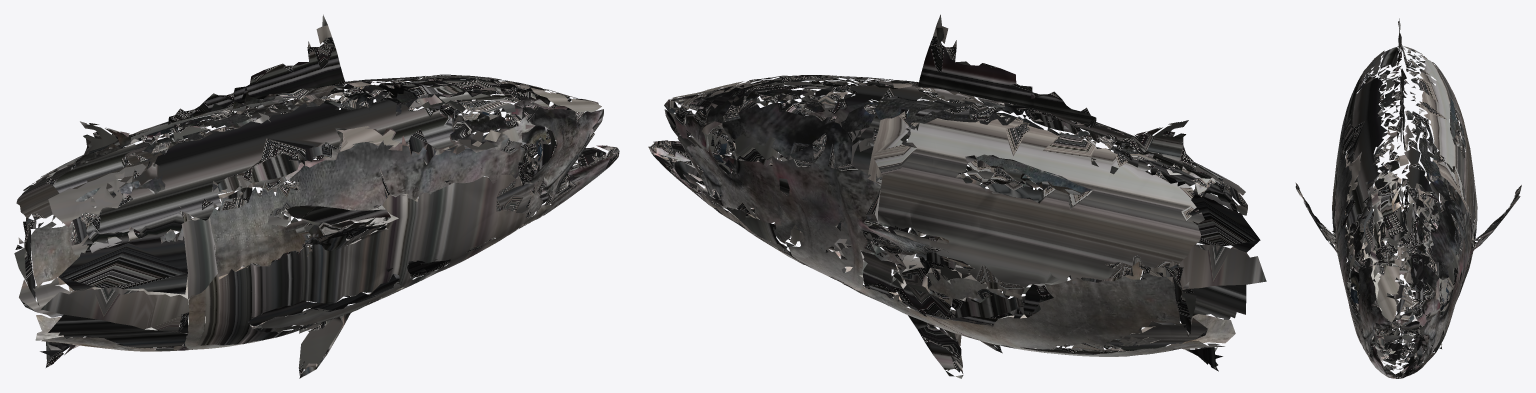
Rendered from bluefin_a.glb.
3 views of the same model, side by side, from view 1: azimuth 30°, elevation 25°; view 2: azimuth 150°, elevation 25°; view 3: azimuth 270°, elevation 25° (orthographic). The views are drawn at different scales.
Parts seen in each view (by area): view 1: bluefin_a; view 2: bluefin_a; view 3: bluefin_a.
Boxes of the visible parts, x1=… form: bluefin_a: x1=14, y1=14, x2=619, y2=378; bluefin_a: x1=648, y1=14, x2=1266, y2=378; bluefin_a: x1=1295, y1=18, x2=1521, y2=378.
Bounding box in the file's own units: 1.25 × 0.6811 × 0.4812.
Materials: 1 (1 with a texture image).
